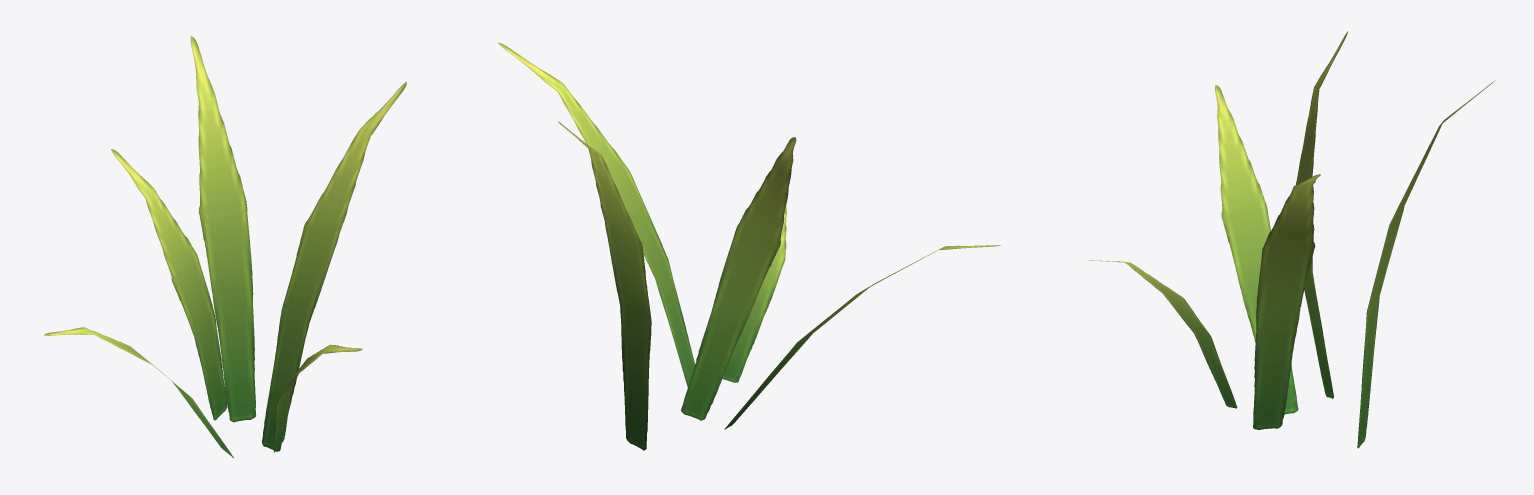
The model's file is Fbx_Gass_001.fbx.
The picture shows the model from 3 angles, left to right: view 1: azimuth 30°, elevation 25°; view 2: azimuth 150°, elevation 25°; view 3: azimuth 270°, elevation 25°; orthographic projection. The views are drawn at different scales.
Parts seen in each view (by area): view 1: FBX_Grass_01; view 2: FBX_Grass_01; view 3: FBX_Grass_01.
Part boxes in pixels (x1,y1,x2,y2): FBX_Grass_01: [44, 36, 406, 457]; FBX_Grass_01: [498, 42, 1001, 450]; FBX_Grass_01: [1087, 31, 1495, 448].
Bounding box in the file's own units: 354 × 283 × 290.
